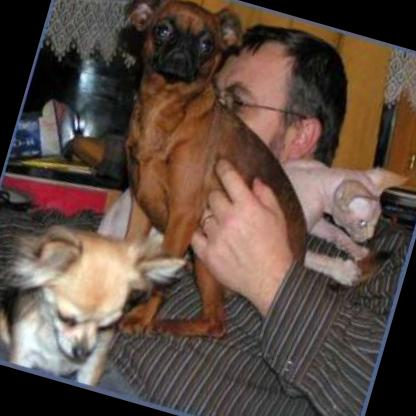Brabancon_griffon: (33, 0, 369, 381)
